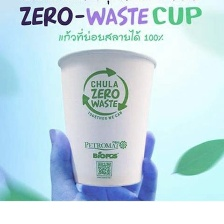paper_cup: (52, 45, 162, 190)
